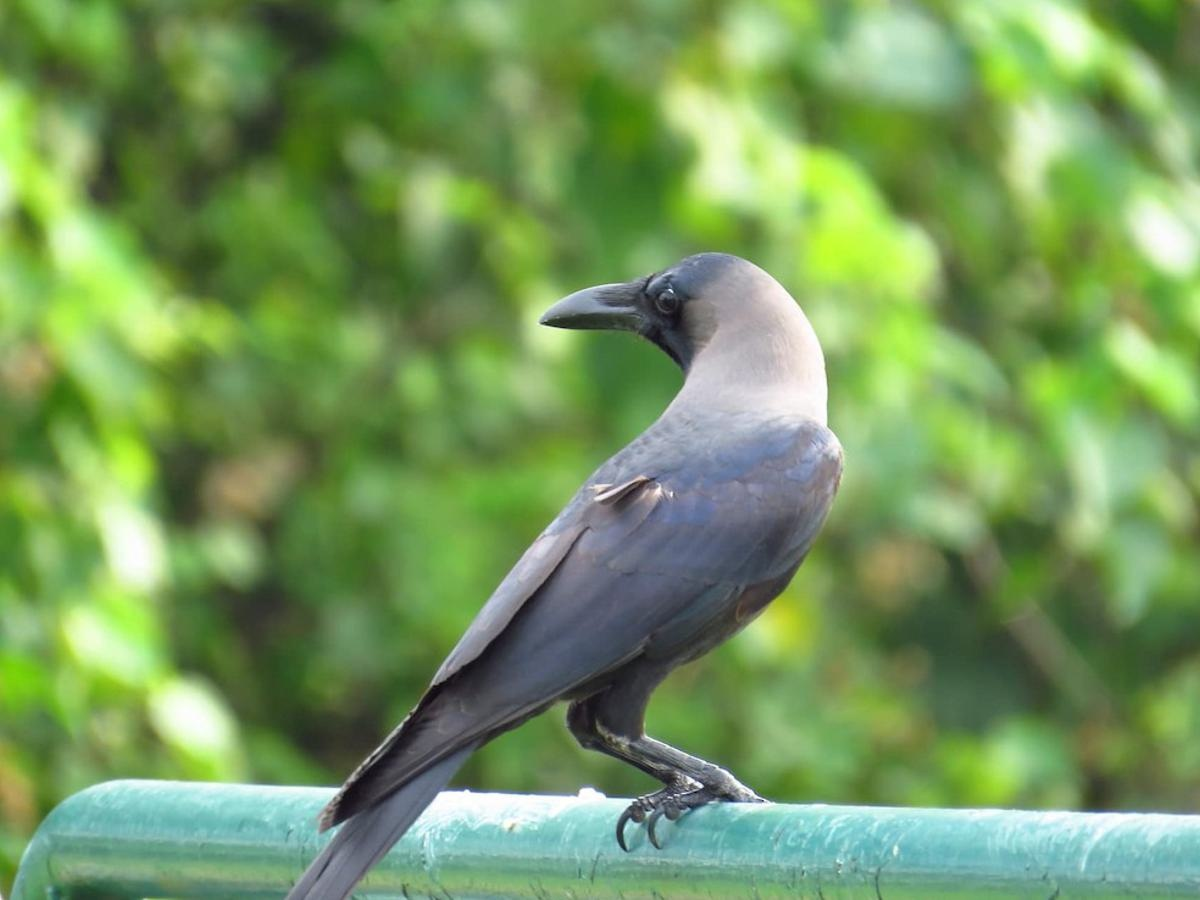crow: (319, 246, 871, 819)
